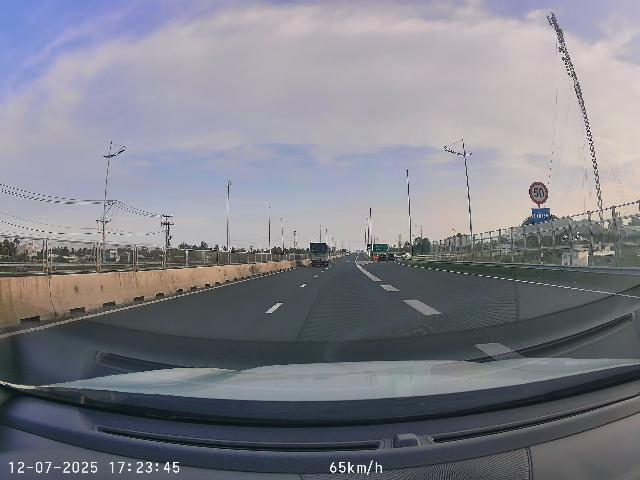127-toc-do-toi-da-50: (529, 181, 548, 205)
